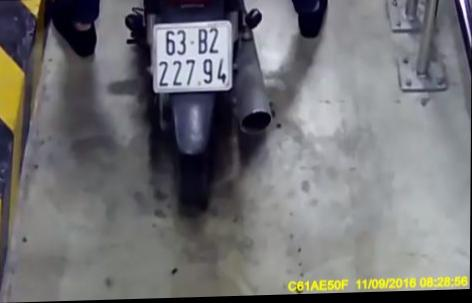LP: (153, 21, 234, 95)
